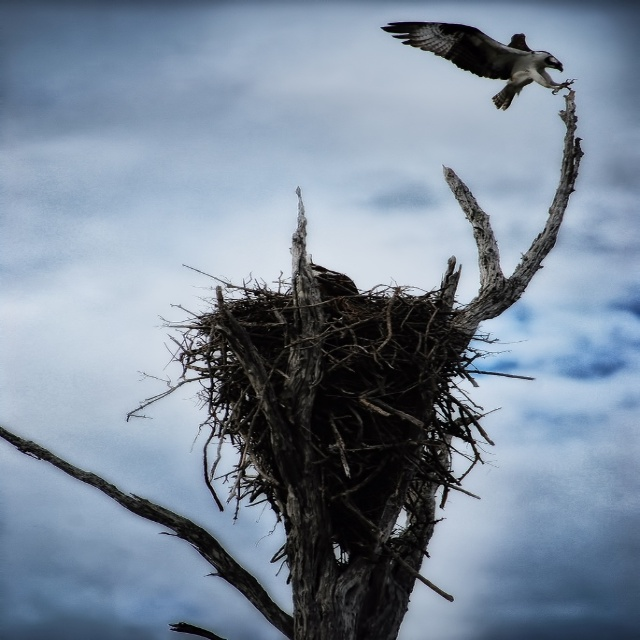Eagle: (379, 19, 579, 109)
